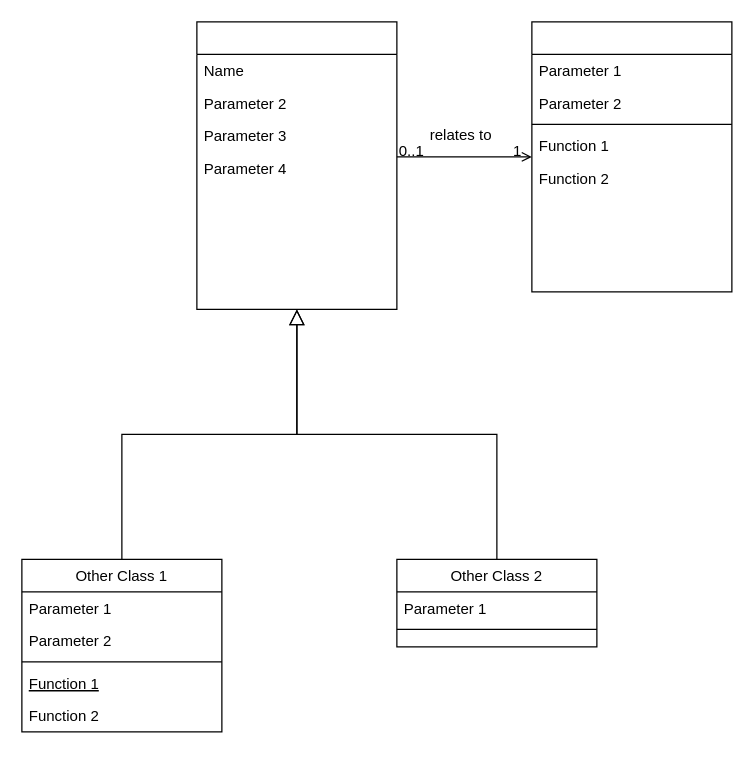
Image size: 754x758. Some labels were removed from this diagram. The shapes that lost their labels are listed below. From the top down, each one's box as (x1, y1, x2, y2) in pixels, then its label:
(196, 21, 397, 309): Pet class
(531, 21, 732, 292): Other Class 3
